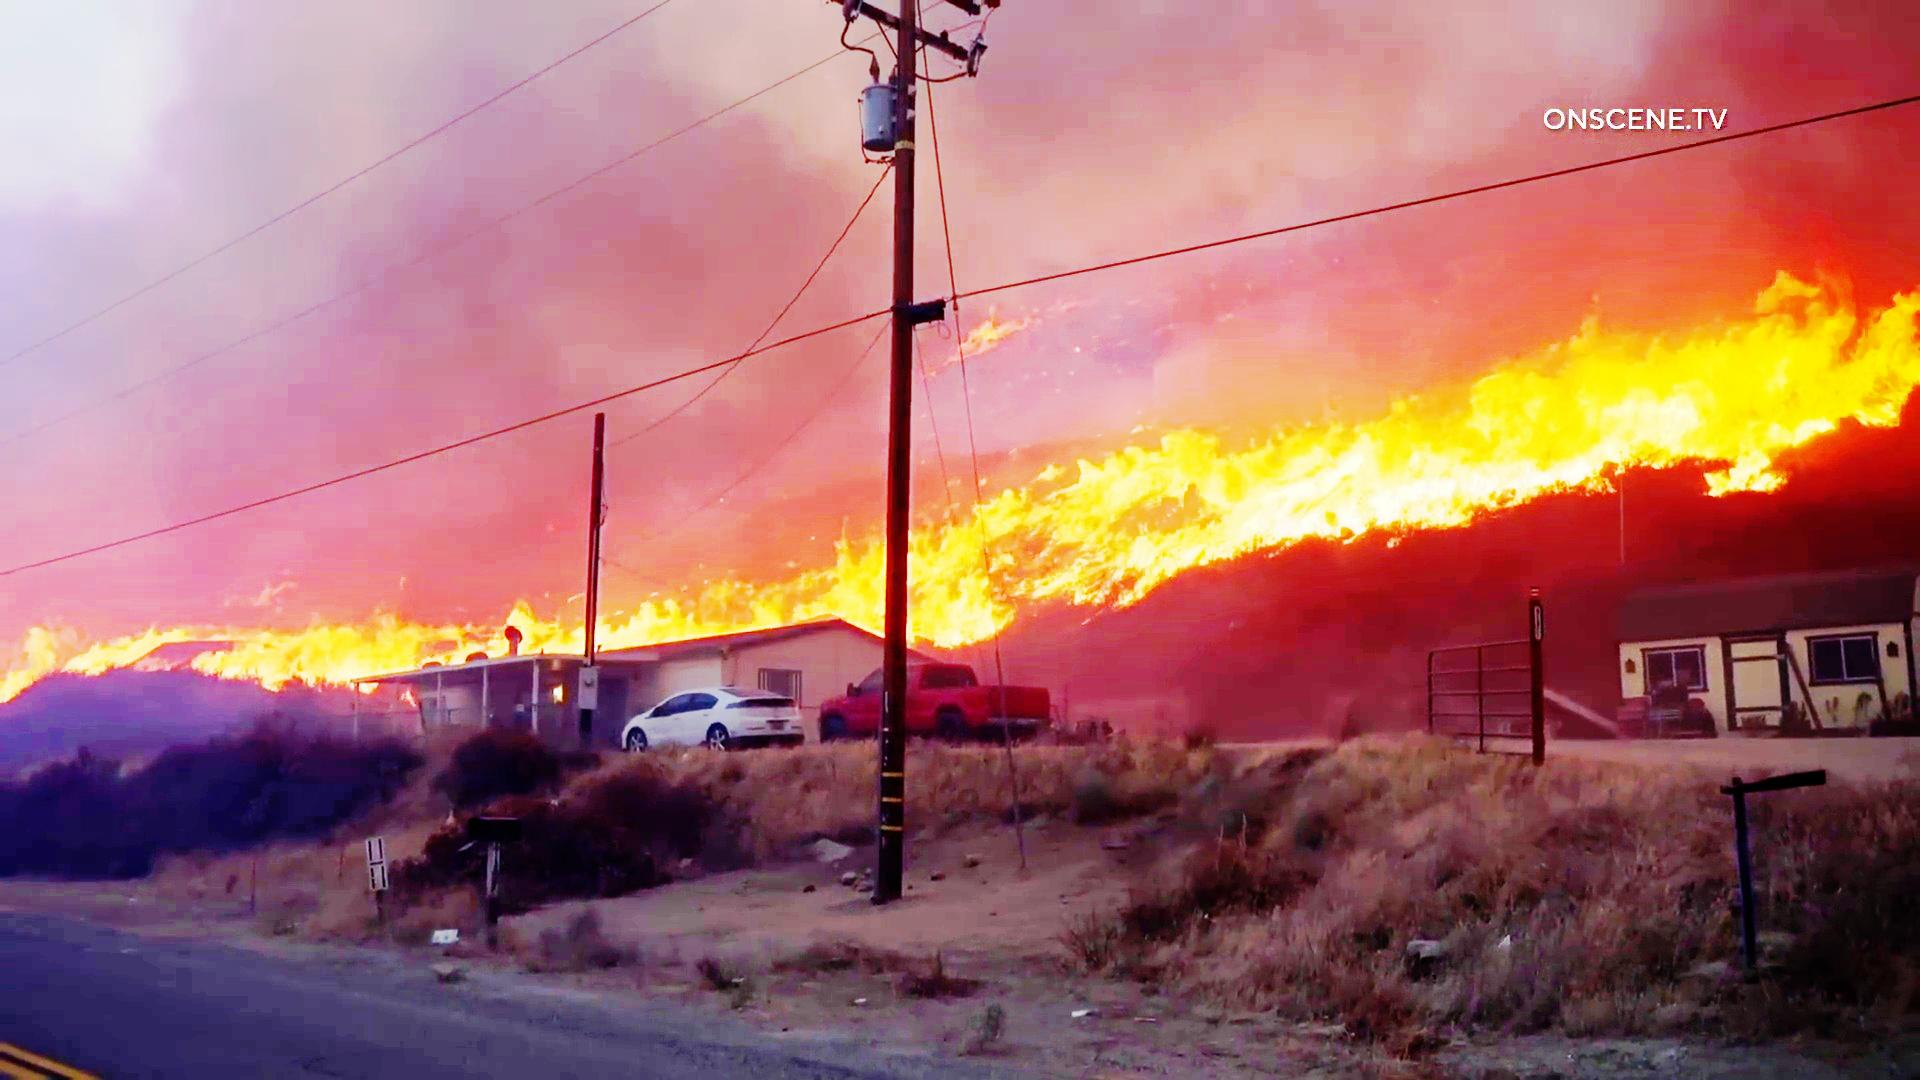fire: (1390, 273, 1920, 541), (928, 401, 1361, 628)
smoke: (0, 0, 770, 335)
